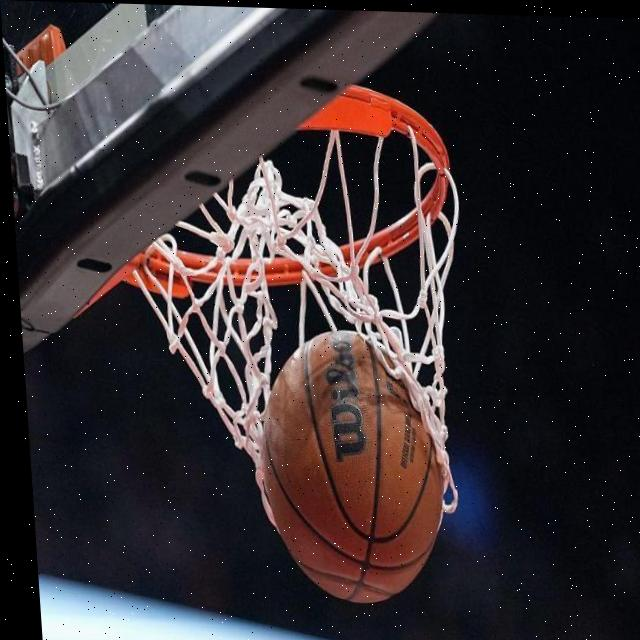hoop: (112, 63, 546, 631)
